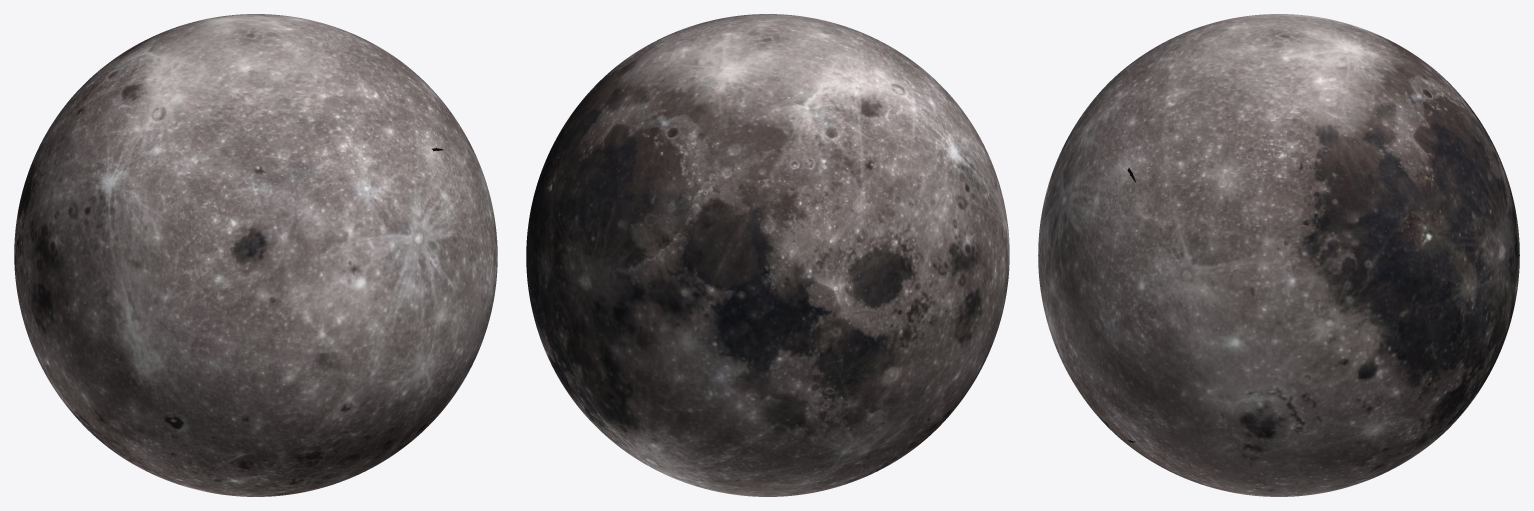
The model's file is moon-optimized.glb.
3 renders of one model, left to right at view 1: azimuth 30°, elevation 25°; view 2: azimuth 150°, elevation 25°; view 3: azimuth 270°, elevation 25°, orthographic.
Visible parts, largest first — view 1: Cube; view 2: Cube; view 3: Cube.
Boxes of the visible parts, <box> form: Cube: <box>14,14,497,496</box>; Cube: <box>526,14,1009,496</box>; Cube: <box>1038,14,1519,496</box>.
Size of the model in its own units: 2.54 by 2.54 by 2.54.
Materials: 1 (1 with a texture image).
